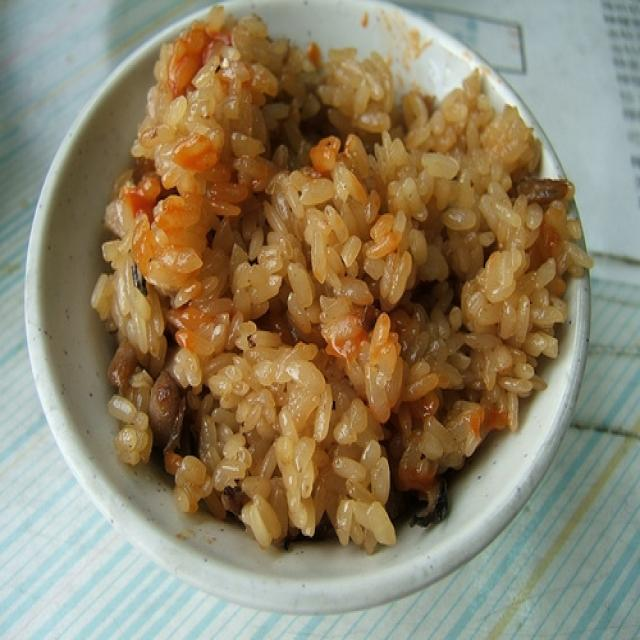米饭主食: (18, 1, 612, 612)
